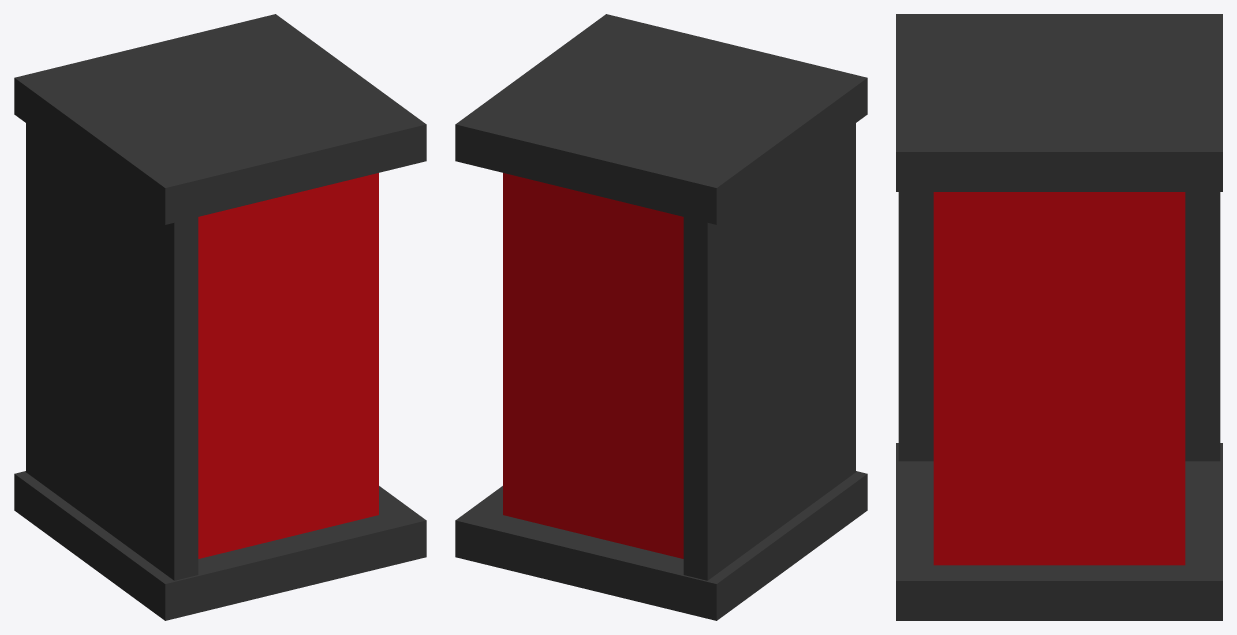
The model's file is red_light.fbx.
3 renders of one model, left to right at view 1: azimuth 30°, elevation 25°; view 2: azimuth 150°, elevation 25°; view 3: azimuth 270°, elevation 25°, orthographic. The views are drawn at different scales.
Visible parts, largest first — view 1: Cube, Cube.003, Cube.001, Cube.002; view 2: Cube, Cube.003, Cube.001, Cube.002; view 3: Cube, Cube.001, Cube.002, Cube.003.
Boxes of the visible parts, box(x1,y1,x2,y2) form: Cube: box(198, 173, 378, 558); Cube.003: box(26, 123, 198, 580); Cube.001: box(14, 14, 426, 224); Cube.002: box(14, 471, 426, 620); Cube: box(503, 173, 683, 558); Cube.003: box(683, 123, 855, 580); Cube.001: box(455, 14, 867, 224); Cube.002: box(455, 471, 867, 620); Cube: box(933, 192, 1185, 565); Cube.001: box(896, 14, 1222, 191); Cube.002: box(896, 443, 1222, 620); Cube.003: box(898, 192, 1220, 461).
Bounding box in the file's own units: 260 × 412 × 260.
